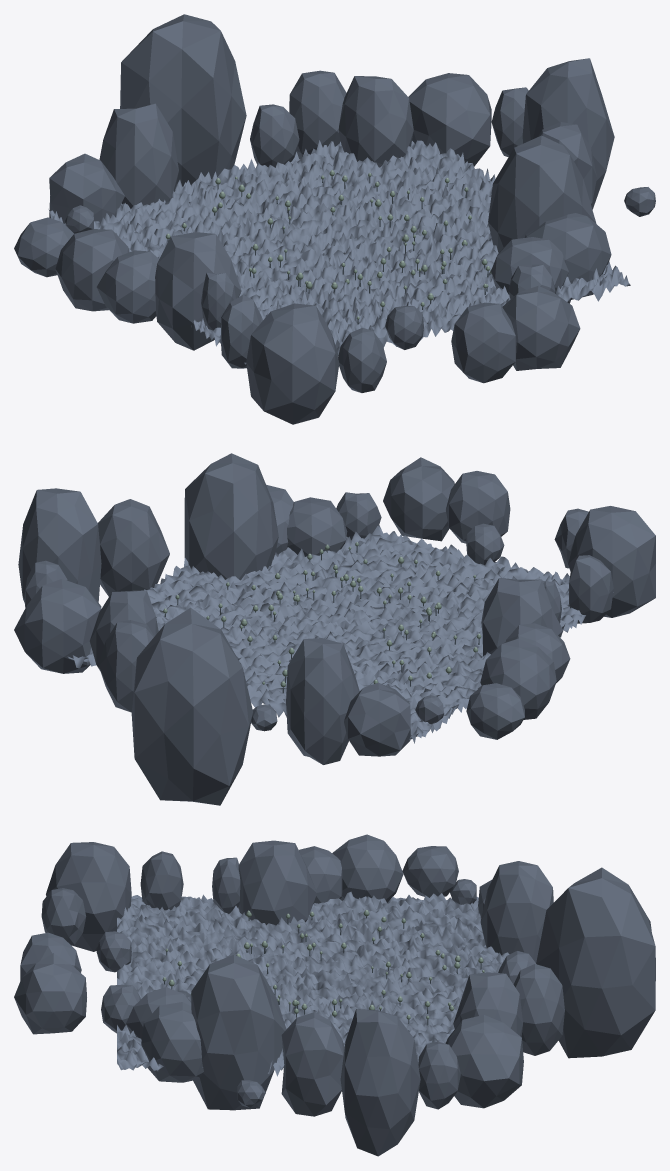
The model's file is wuthering_terrain.gltf.
The picture shows the model from 3 angles, top to bottom: view 1: azimuth 30°, elevation 25°; view 2: azimuth 150°, elevation 25°; view 3: azimuth 270°, elevation 25°; orthographic projection. The views are drawn at different scales.
Size of the model in its own units: 361 by 116 by 390.
